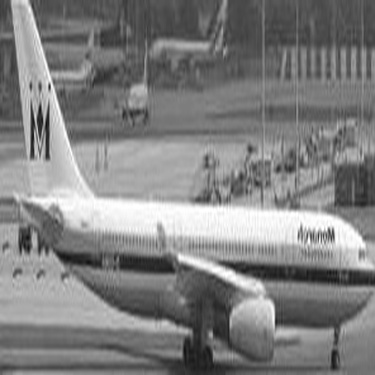airplane: (3, 2, 373, 369), (134, 2, 236, 75), (17, 25, 104, 98), (119, 31, 157, 121)
